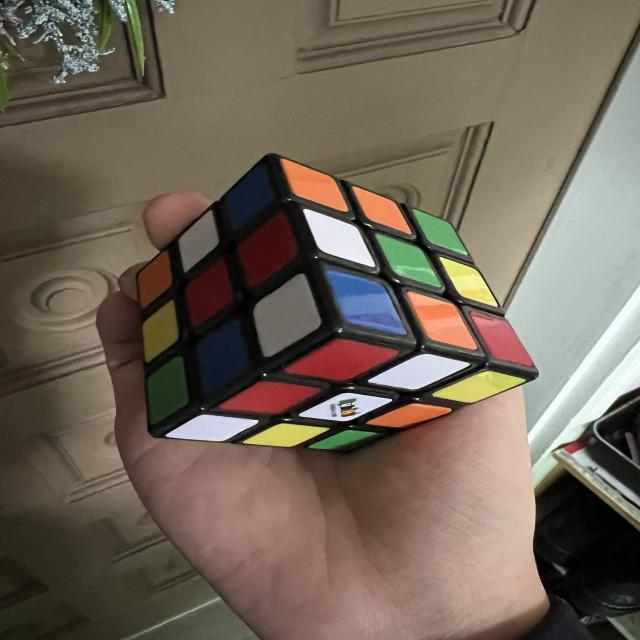blue: (314, 267, 418, 339), (211, 159, 287, 233), (189, 318, 255, 395)
center: (170, 258, 246, 329), (297, 379, 393, 435), (365, 233, 450, 290)
green: (404, 208, 476, 257), (142, 356, 190, 425), (308, 429, 389, 452)
orange: (403, 275, 478, 367), (270, 157, 356, 215), (365, 392, 452, 440), (343, 185, 420, 236), (123, 249, 186, 310)
red: (281, 317, 400, 403), (225, 211, 310, 291), (466, 298, 535, 382), (219, 381, 321, 415)
white: (237, 272, 332, 360), (367, 338, 470, 407), (292, 208, 385, 270), (165, 210, 231, 273), (165, 410, 258, 447)
yellow: (431, 358, 525, 416), (438, 244, 499, 320), (125, 299, 194, 363), (243, 420, 328, 451)
